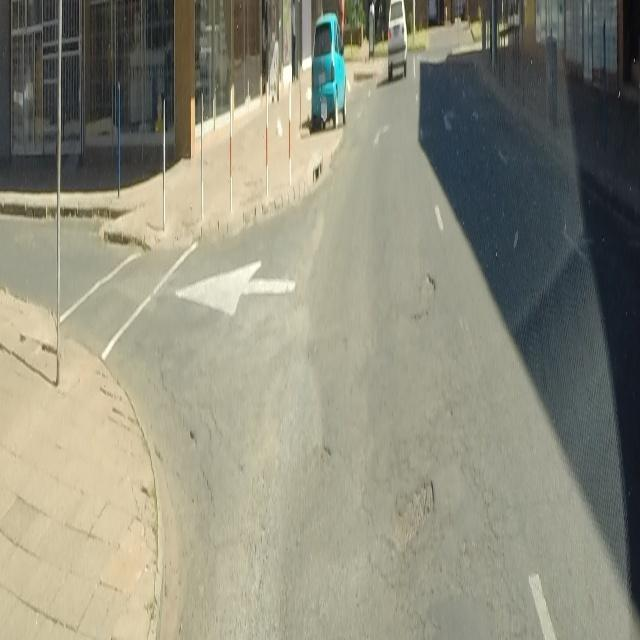pothole: (390, 474, 436, 546), (407, 268, 436, 325), (311, 430, 332, 462)
